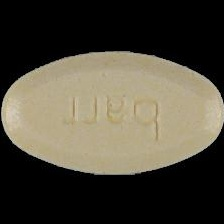0555-0834: (0, 0, 224, 224)
